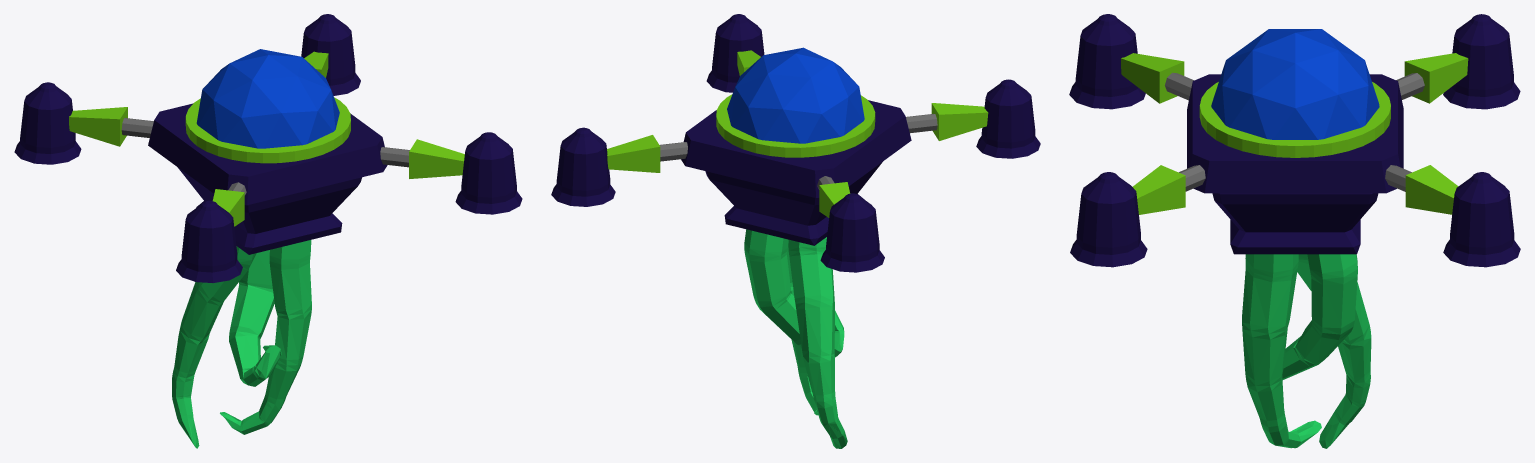
The model's file is jellyfishBoss_8.obj.
The picture shows the model from 3 angles, left to right: view 1: azimuth 30°, elevation 25°; view 2: azimuth 150°, elevation 25°; view 3: azimuth 270°, elevation 25°; orthographic projection. The views are drawn at different scales.
Parts seen in each view (by area): view 1: Base_Cube.001, Head_Icosphere, Cylinder.002_Cylinder.001, Cylinder.003_Cylinder.002, Cylinder.001_Cylinder.012, Rocket_2_Cylinder.014, Rocket_1_Cylinder.003, Rocket_3_Cylinder.016, Cylinder, Rocket_4_Cylinder.018, B_Arm_1_Cube.002, B_Arm_3_Cube.011 (+3 smaller); view 2: Base_Cube.001, Head_Icosphere, Cylinder.003_Cylinder.002, Cylinder.001_Cylinder.012, Rocket_3_Cylinder.016, Rocket_4_Cylinder.018, Rocket_2_Cylinder.014, Cylinder, Rocket_1_Cylinder.003, B_Arm_4_Cube.012, B_Arm_2_Cube.010, Cylinder.002_Cylinder.001 (+3 smaller); view 3: Base_Cube.001, Head_Icosphere, Cylinder.002_Cylinder.001, Cylinder.001_Cylinder.012, Rocket_4_Cylinder.018, Rocket_1_Cylinder.003, Rocket_3_Cylinder.016, Rocket_2_Cylinder.014, Cylinder, Cylinder.003_Cylinder.002, B_Arm_2_Cube.010, B_Arm_4_Cube.012 (+6 smaller).
Boxes of the visible parts, box(x1,y1,x2,y2) form: Base_Cube.001: box(148, 103, 387, 254); Head_Icosphere: box(196, 49, 339, 148); Cylinder.002_Cylinder.001: box(220, 240, 311, 434); Cylinder.003_Cylinder.002: box(172, 246, 256, 448); Cylinder.001_Cylinder.012: box(229, 250, 281, 386); Rocket_2_Cylinder.014: box(176, 200, 242, 282); Rocket_1_Cylinder.003: box(455, 132, 522, 214); Rocket_3_Cylinder.016: box(14, 82, 81, 164); Cylinder: box(185, 97, 350, 163); Rocket_4_Cylinder.018: box(301, 14, 360, 95); B_Arm_1_Cube.002: box(409, 139, 464, 178); B_Arm_3_Cube.011: box(69, 107, 127, 146); Base_Cube.001: box(681, 100, 911, 245); Head_Icosphere: box(727, 47, 864, 143); Cylinder.003_Cylinder.002: box(788, 237, 847, 448); Cylinder.001_Cylinder.012: box(744, 229, 844, 357); Rocket_3_Cylinder.016: box(820, 193, 884, 272); Rocket_4_Cylinder.018: box(551, 127, 615, 206); Rocket_2_Cylinder.014: box(976, 79, 1040, 158); Cylinder: box(716, 94, 875, 157); Rocket_1_Cylinder.003: box(706, 14, 764, 92); B_Arm_4_Cube.012: box(607, 135, 660, 172); B_Arm_2_Cube.010: box(931, 103, 988, 140); Cylinder.002_Cylinder.001: box(787, 242, 818, 415); Base_Cube.001: box(1187, 74, 1403, 254); Head_Icosphere: box(1211, 29, 1379, 139); Cylinder.002_Cylinder.001: box(1242, 254, 1321, 448); Cylinder.001_Cylinder.012: box(1282, 254, 1357, 379); Rocket_4_Cylinder.018: box(1443, 172, 1520, 267); Rocket_1_Cylinder.003: box(1070, 172, 1147, 267); Rocket_3_Cylinder.016: box(1443, 14, 1520, 109); Rocket_2_Cylinder.014: box(1069, 14, 1145, 109); Cylinder: box(1199, 82, 1390, 157); Cylinder.003_Cylinder.002: box(1297, 254, 1371, 448); B_Arm_2_Cube.010: box(1121, 53, 1184, 103); B_Arm_4_Cube.012: box(1405, 165, 1458, 214).
Bounding box in the file's own units: 14.77 × 16.19 × 14.77.
